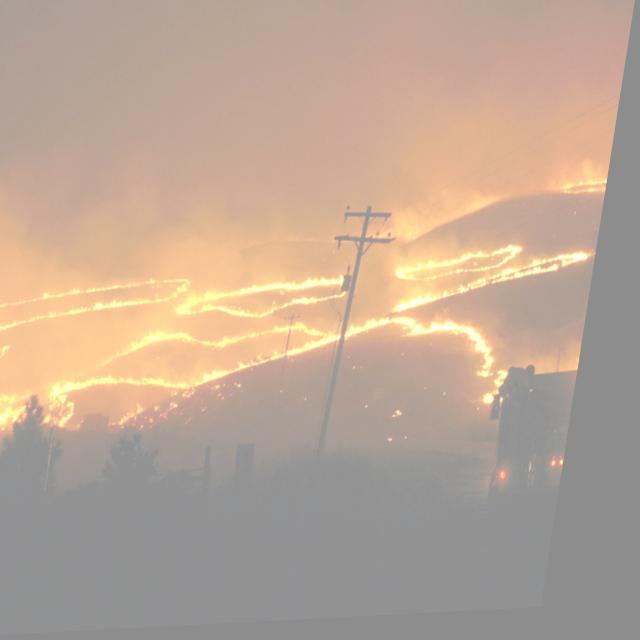Fire: (0, 180, 614, 443)
